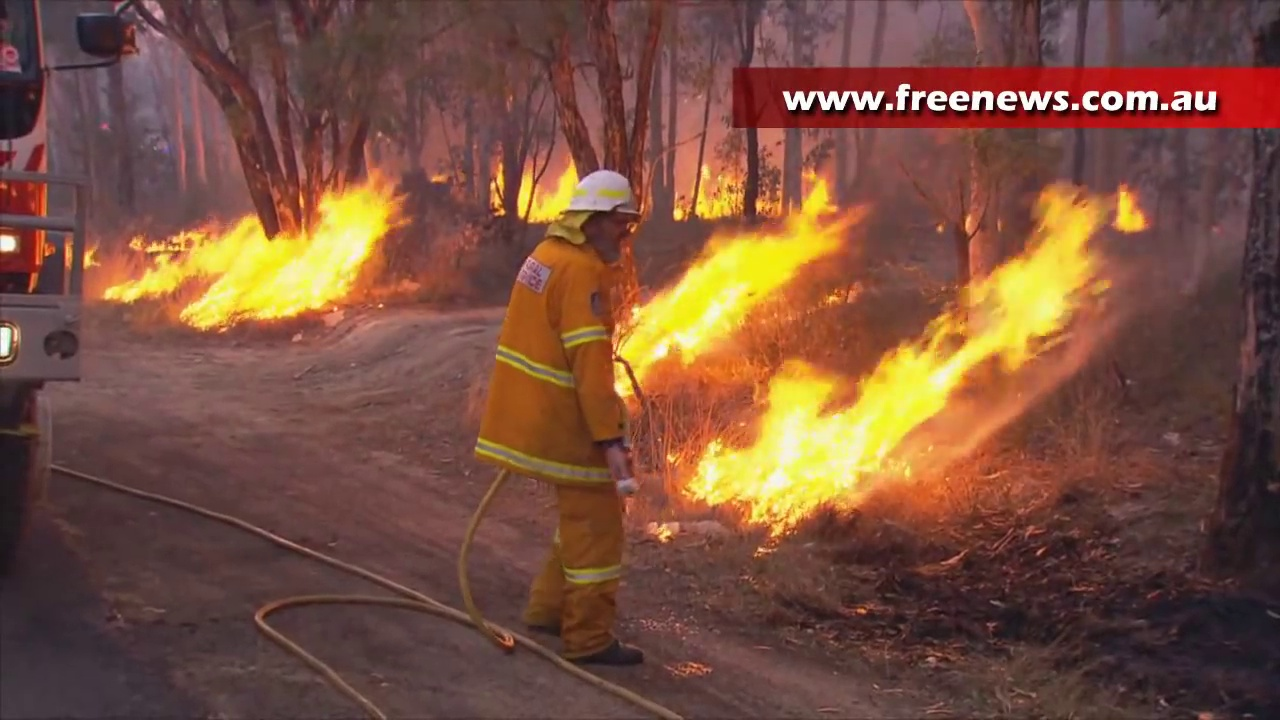fire: (691, 186, 1135, 526), (622, 175, 850, 378), (108, 184, 391, 330), (522, 166, 572, 219), (86, 243, 99, 266)
